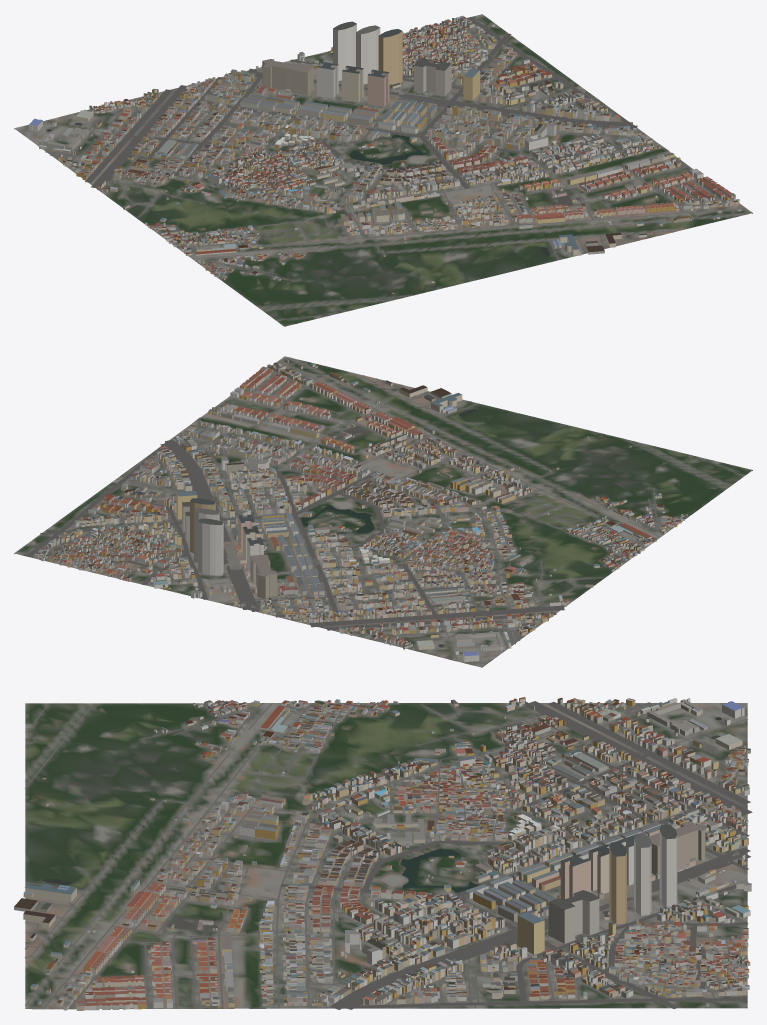
3 views of the same model, one above another, from view 1: azimuth 30°, elevation 25°; view 2: azimuth 150°, elevation 25°; view 3: azimuth 270°, elevation 25° (orthographic). The views are drawn at different scales.
Parts seen in each view (by area): view 1: buildings, ground, roads, water; view 2: buildings, ground, roads, water; view 3: buildings, ground, roads, water.
Part boxes in pixels (x1,y1,x2,y2): buildings: [29, 15, 741, 293]; ground: [14, 14, 752, 326]; roads: [22, 17, 747, 320]; water: [46, 122, 549, 259]; buildings: [31, 359, 687, 661]; ground: [14, 356, 752, 667]; roads: [26, 357, 743, 663]; water: [301, 409, 509, 647]; buildings: [14, 697, 751, 1010]; ground: [25, 703, 747, 1009]; roads: [25, 701, 752, 1009]; water: [42, 717, 721, 892].
Size of the model in its own units: 1417 by 150 by 1434.
